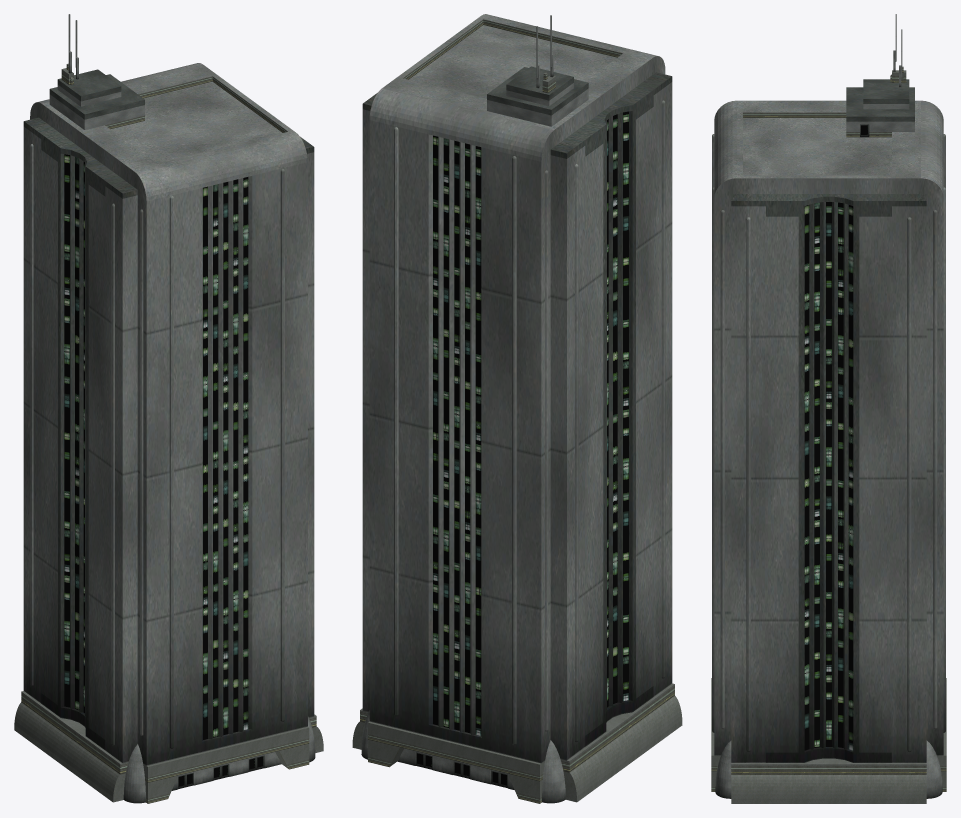
File: thm_corl_imprv_building_s01_l0.fbx
The picture shows the model from 3 angles, left to right: view 1: azimuth 30°, elevation 25°; view 2: azimuth 150°, elevation 25°; view 3: azimuth 270°, elevation 25°; orthographic projection. The views are drawn at different scales.
Parts seen in each view (by area): view 1: mesh_node; view 2: mesh_node; view 3: mesh_node.
Part boxes in pixels (box(x1,y1,x2,y2)): mesh_node: box(14, 14, 323, 803); mesh_node: box(352, 14, 682, 803); mesh_node: box(711, 14, 946, 803).
Size of the model in its own units: 41.8 by 136 by 41.
